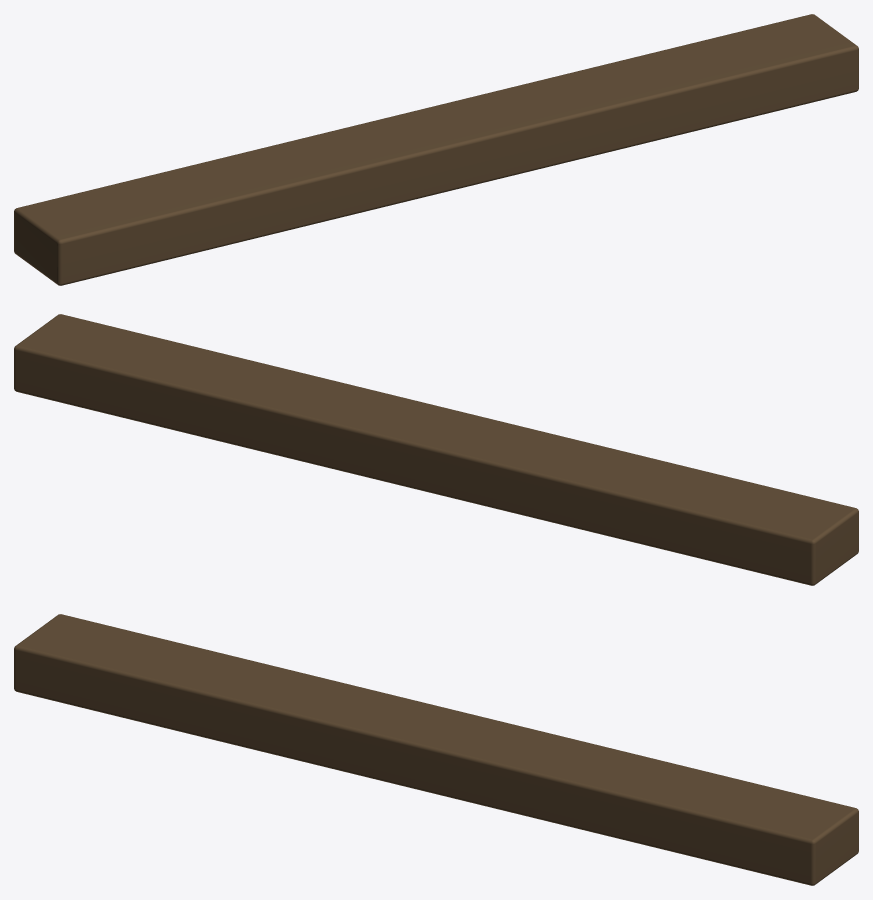
Rendered from ceiling-joist-lod0.fbx.
3 views of the same model, one above another, from view 1: azimuth 30°, elevation 25°; view 2: azimuth 150°, elevation 25°; view 3: azimuth 330°, elevation 25° (orthographic).
Visible parts, largest first — view 1: Eased exposed ceiling joist; view 2: Eased exposed ceiling joist; view 3: Eased exposed ceiling joist.
Part boxes in pixels (x1,y1,x2,y2): Eased exposed ceiling joist: (14,14,858,285); Eased exposed ceiling joist: (14,314,858,585); Eased exposed ceiling joist: (14,614,858,885).
Size of the model in its own units: 100 by 5.5 by 10.
